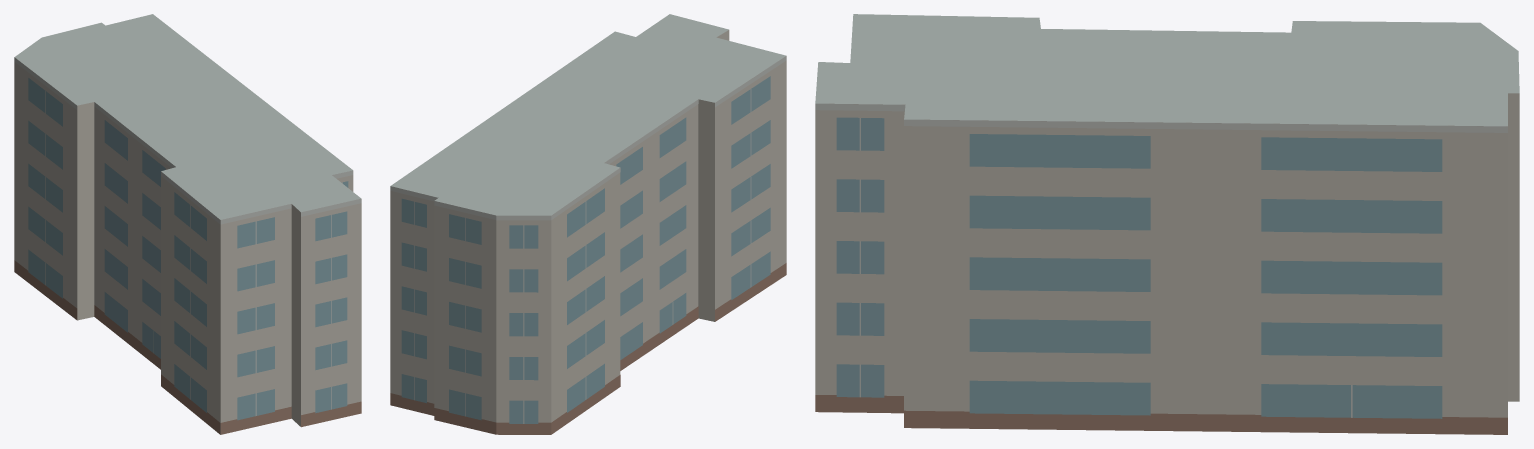
The model's file is survey-upis-32900867.glb.
The picture shows the model from 3 angles, left to right: view 1: azimuth 30°, elevation 25°; view 2: azimuth 150°, elevation 25°; view 3: azimuth 270°, elevation 25°; orthographic projection. The views are drawn at different scales.
Parts seen in each view (by area): view 1: survey-upis-32900867.tmp; view 2: survey-upis-32900867.tmp; view 3: survey-upis-32900867.tmp.
Part boxes in pixels (bbox=[...]): survey-upis-32900867.tmp: bbox=[14, 14, 361, 434]; survey-upis-32900867.tmp: bbox=[390, 14, 786, 434]; survey-upis-32900867.tmp: bbox=[815, 14, 1519, 434].
Bounding box in the file's own units: 8.96 × 11.45 × 23.71.
